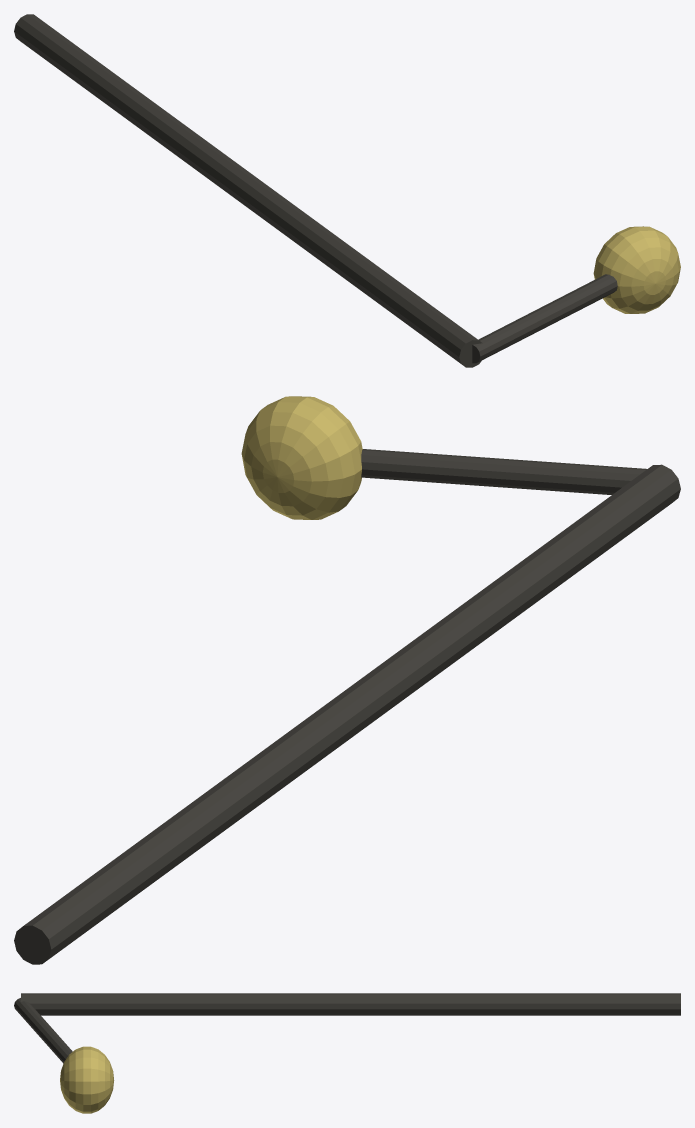
The model's file is street_lamp_old.obj.
The picture shows the model from 3 angles, top to bottom: view 1: azimuth 30°, elevation 25°; view 2: azimuth 150°, elevation 25°; view 3: azimuth 270°, elevation 25°; orthographic projection. The views are drawn at different scales.
Size of the model in its own units: 1.19 by 0.3563 by 3.54.
